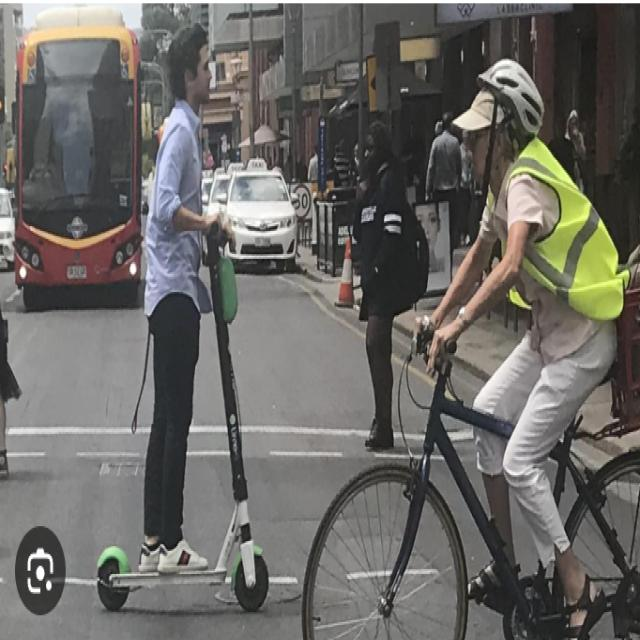non-helmet: (86, 11, 274, 620)
